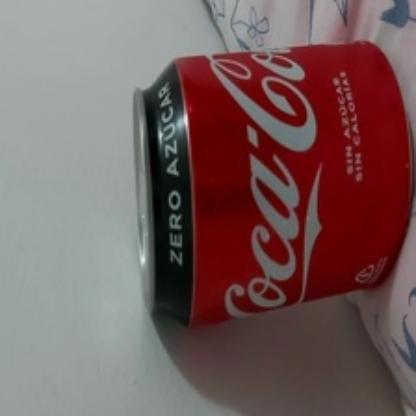Can: (130, 39, 416, 327)
